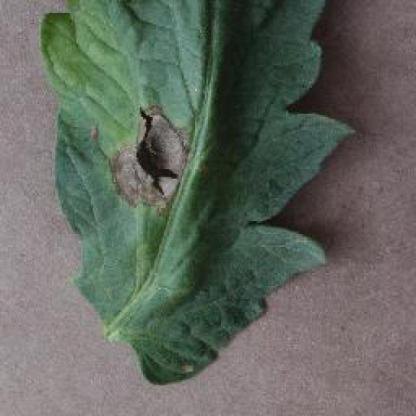Tomato_Blight: (41, 0, 353, 385)
